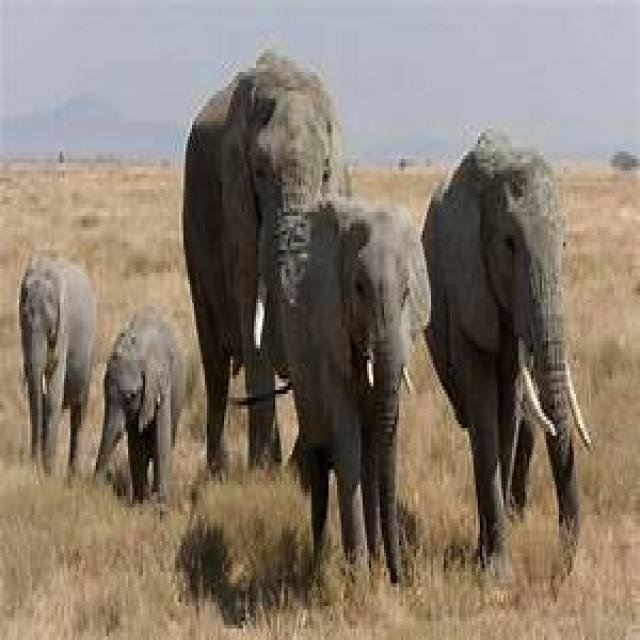elephant: (420, 129, 593, 572), (183, 53, 354, 477), (267, 189, 412, 583), (17, 258, 96, 473), (100, 311, 181, 504)
